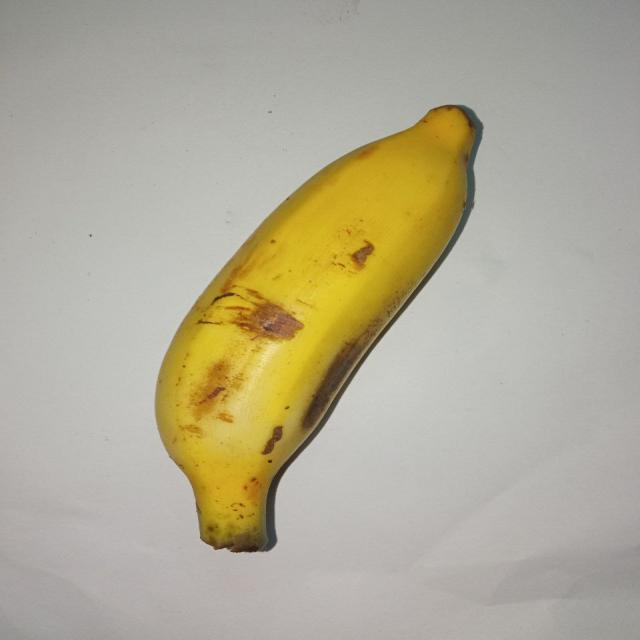fresh_banana: (155, 105, 473, 552)
